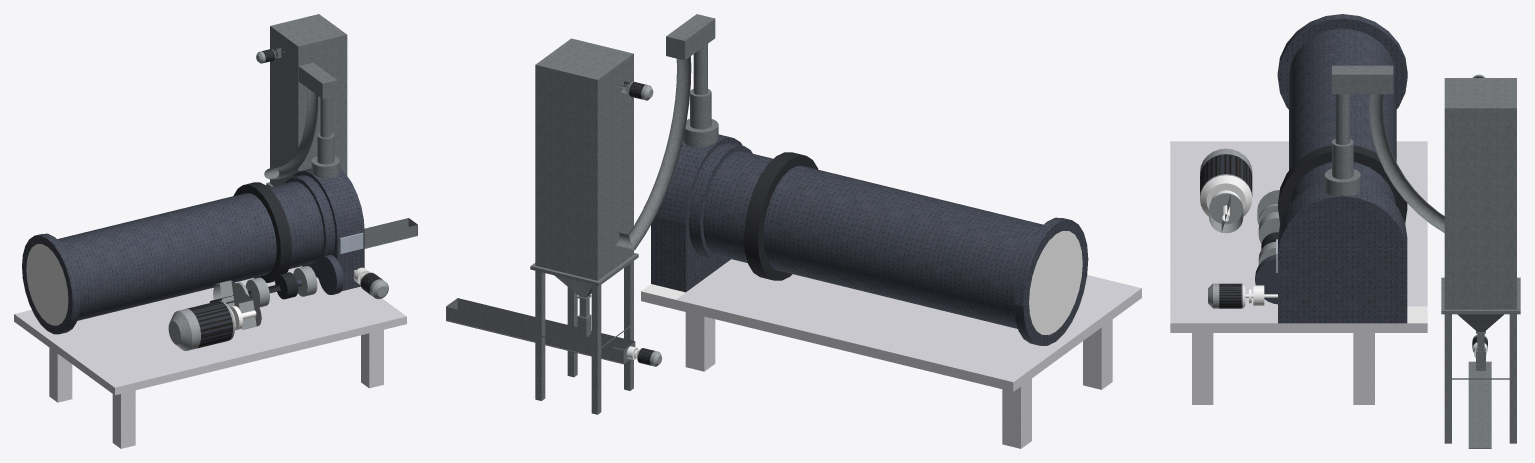
Rendered from 致密机.glb.
3 renders of one model, left to right at view 1: azimuth 30°, elevation 25°; view 2: azimuth 150°, elevation 25°; view 3: azimuth 270°, elevation 25°, orthographic. The views are drawn at different scales.
Size of the model in its own units: 8.57 by 5.12 by 4.85.
Materials: 8 (7 with a texture image).
